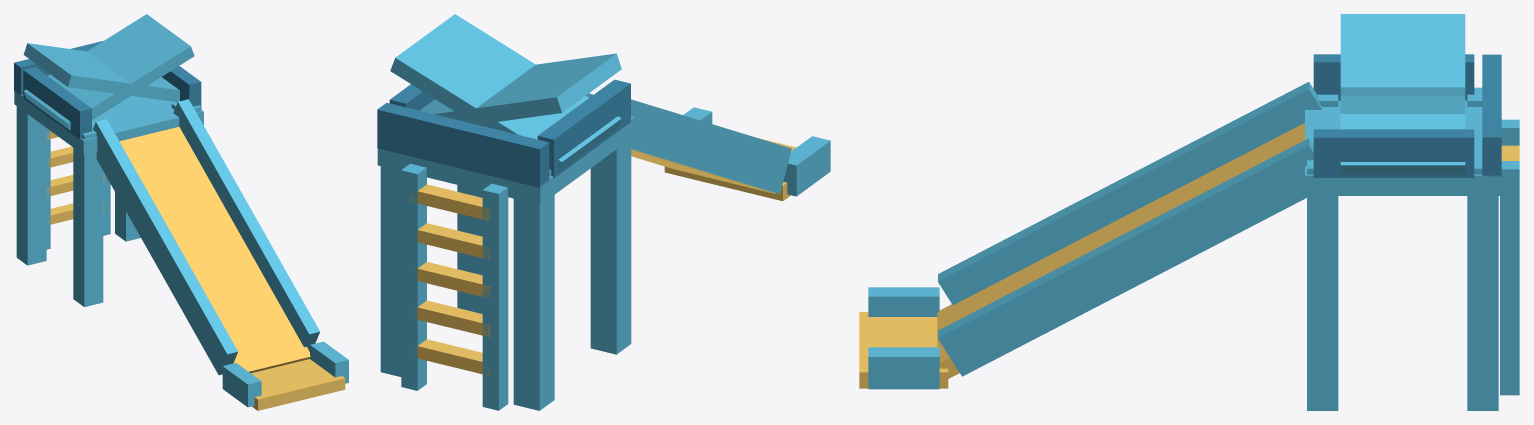
The model's file is slide.glb.
3 views of the same model, side by side, from view 1: azimuth 30°, elevation 25°; view 2: azimuth 150°, elevation 25°; view 3: azimuth 270°, elevation 25° (orthographic). The views are drawn at different scales.
Parts seen in each view (by area): view 1: slide; view 2: slide; view 3: slide.
Boxes of the visible parts, box(x1,y1,x2,y2) form: slide: box(14, 14, 348, 410); slide: box(377, 14, 830, 410); slide: box(859, 14, 1519, 410).
Size of the model in its own units: 23.23 by 39.05 by 74.1.
